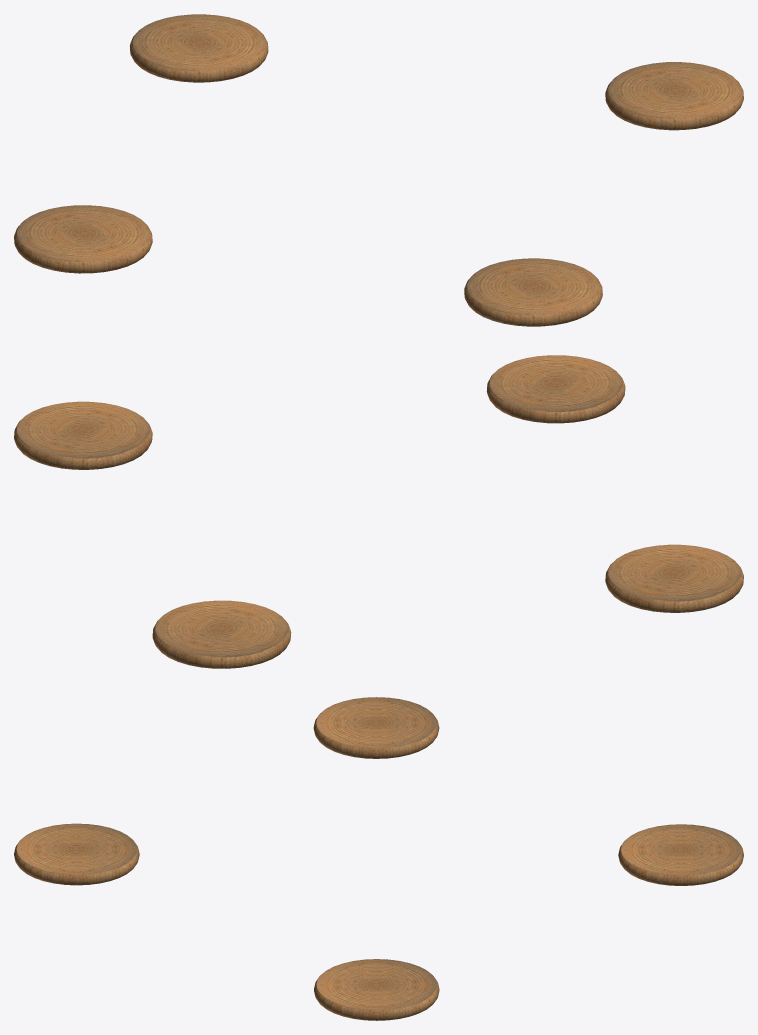
Rendered from Cojin.obj.
3 renders of one model, top to bottom at view 1: azimuth 30°, elevation 25°; view 2: azimuth 150°, elevation 25°; view 3: azimuth 270°, elevation 25°, orthographic. The views are drawn at different scales.
Parts seen in each view (by area): view 1: Circle, Circle.003, Circle.001, Circle.002; view 2: Circle, Circle.003, Circle.001, Circle.002; view 3: Circle.001, Circle.003, Circle.002, Circle.
Part boxes in pixels (x1,y1,x2,y2): Circle: (464, 258, 602, 326); Circle.003: (129, 14, 268, 82); Circle.001: (14, 205, 152, 273); Circle.002: (605, 62, 743, 130); Circle: (486, 355, 625, 423); Circle.003: (152, 600, 291, 668); Circle.001: (605, 544, 743, 612); Circle.002: (14, 401, 152, 469); Circle.001: (313, 697, 439, 758); Circle.003: (618, 824, 743, 885); Circle.002: (314, 959, 439, 1020); Circle: (14, 823, 139, 885).
Bounding box in the file's own units: 5 × 0.0935 × 4.91.
Materials: 1 (1 with a texture image).
